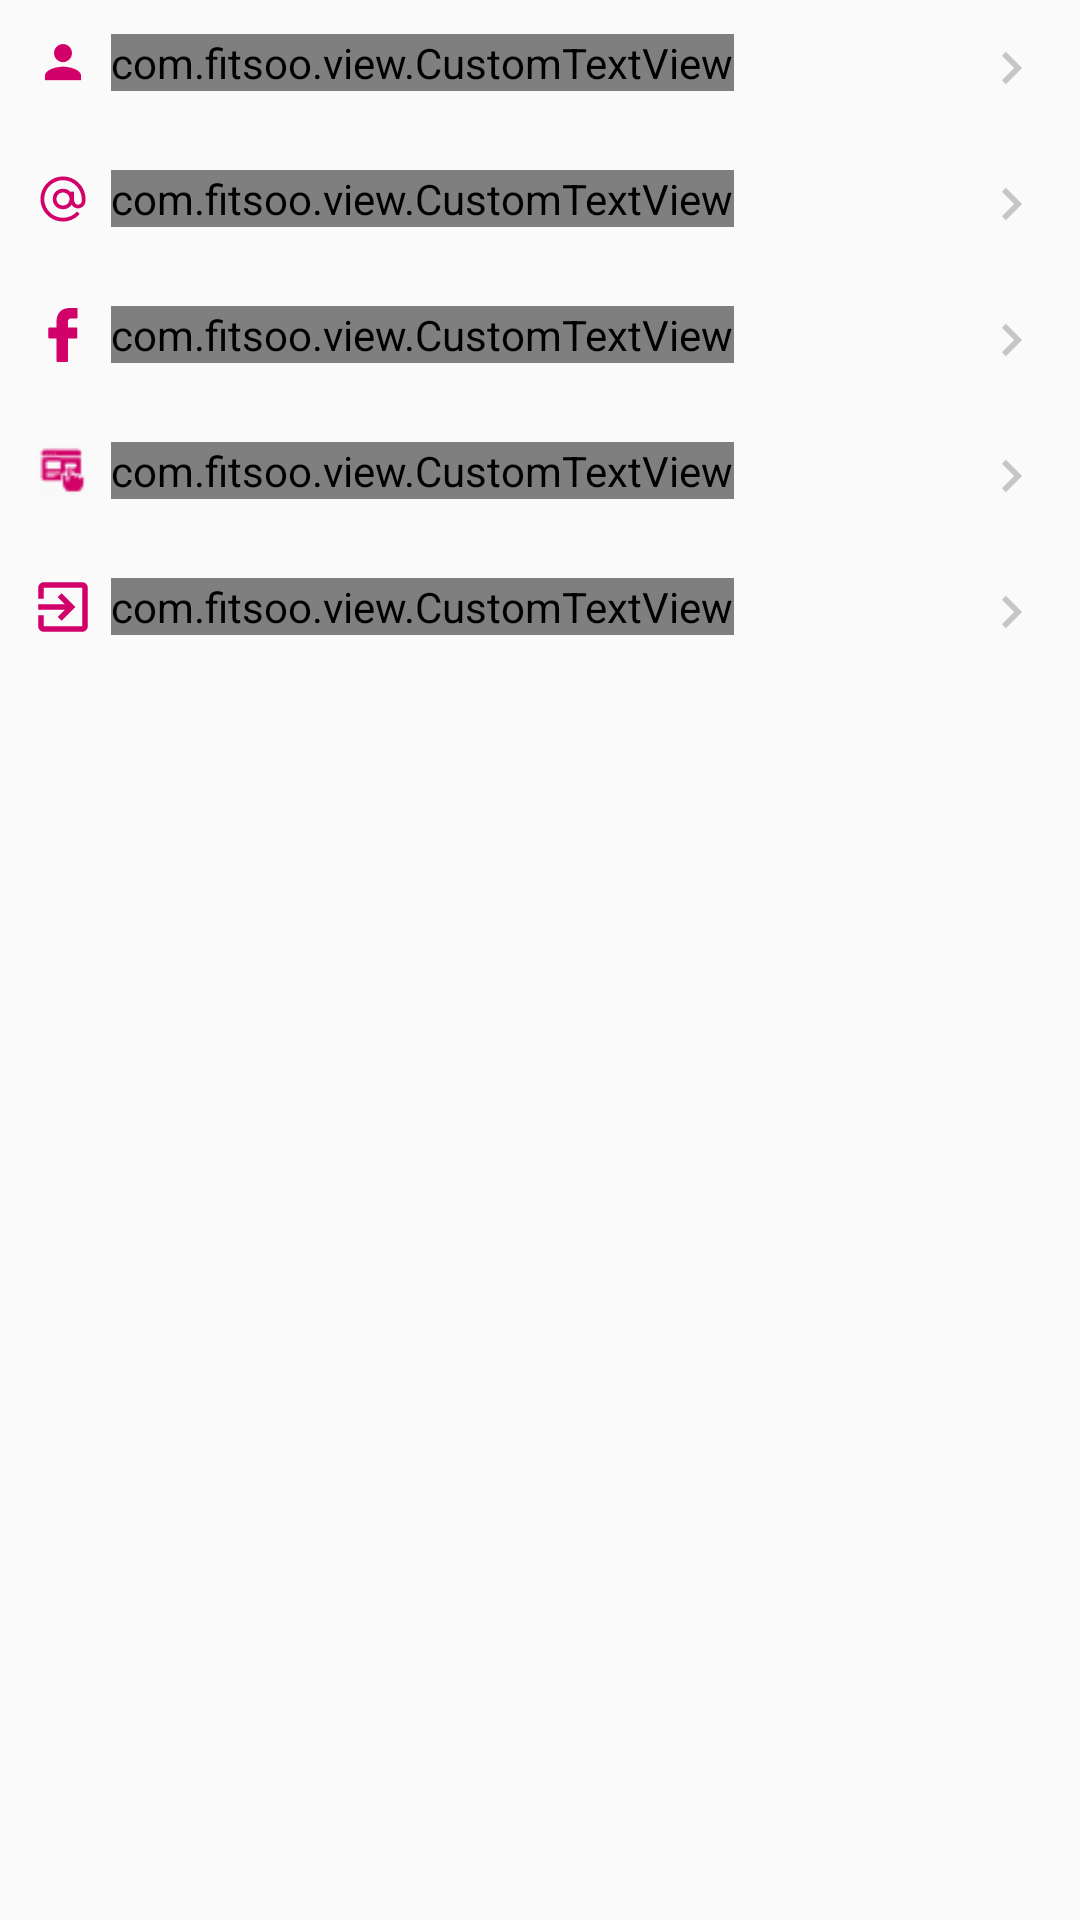

Icons on this 1080px x 1920px Android screen, each with its box as (x1, y1, x2, y2):
contact us: (40, 176, 86, 222)
log out: (38, 582, 88, 632)
profile: (45, 44, 81, 81)
subscription: (40, 448, 84, 492)
